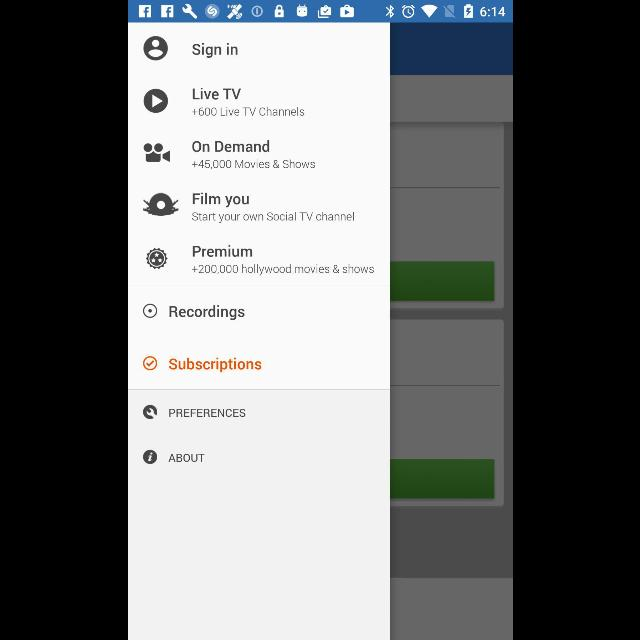icon: (142, 36, 168, 62), (142, 88, 168, 114), (142, 356, 156, 370), (142, 450, 156, 464)
image: (142, 193, 178, 217), (142, 143, 170, 163), (145, 248, 167, 270), (142, 304, 156, 318), (142, 405, 156, 419)
panel: (127, 22, 389, 640)
text: (191, 264, 373, 276), (190, 212, 354, 224), (168, 358, 260, 372), (191, 159, 313, 169), (168, 305, 244, 321), (190, 107, 304, 117), (190, 140, 270, 152), (192, 192, 248, 208), (168, 408, 246, 418), (191, 43, 237, 59), (192, 245, 252, 257), (191, 88, 241, 100), (168, 453, 205, 462)
textbutton: (168, 408, 246, 418), (168, 453, 205, 462)
uppertaskbar: (128, 1, 512, 23)
